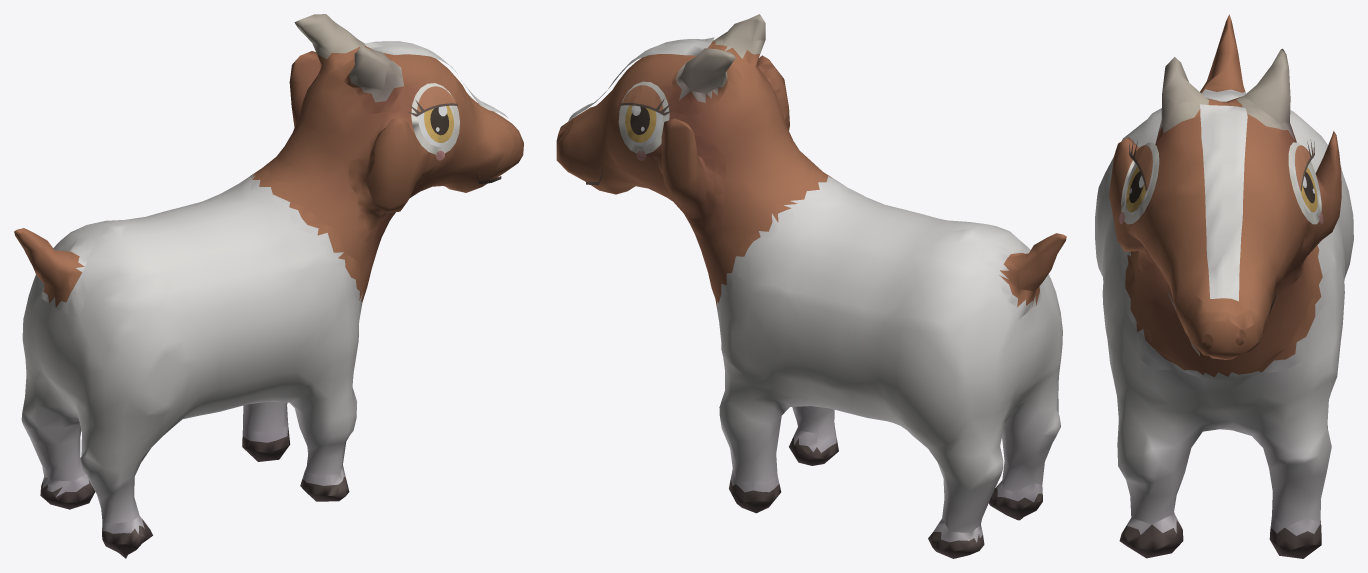
The model's file is boer_goat.glb.
3 views of the same model, side by side, from view 1: azimuth 30°, elevation 25°; view 2: azimuth 150°, elevation 25°; view 3: azimuth 270°, elevation 25° (orthographic). The views are drawn at different scales.
Visible parts, largest first — view 1: boer_goat; view 2: boer_goat; view 3: boer_goat.
Part boxes in pixels (x1,y1,x2,y2): boer_goat: (14, 14, 523, 558); boer_goat: (556, 14, 1066, 558); boer_goat: (1095, 14, 1353, 558).
Bounding box in the file's own units: 0.8073 × 0.6843 × 0.3012.
